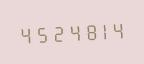eight: (77, 19, 91, 42)
five: (32, 22, 46, 45)
four: (17, 22, 31, 46), (62, 20, 76, 43), (107, 18, 121, 41)
one: (92, 18, 106, 42)
two: (47, 21, 61, 44)
